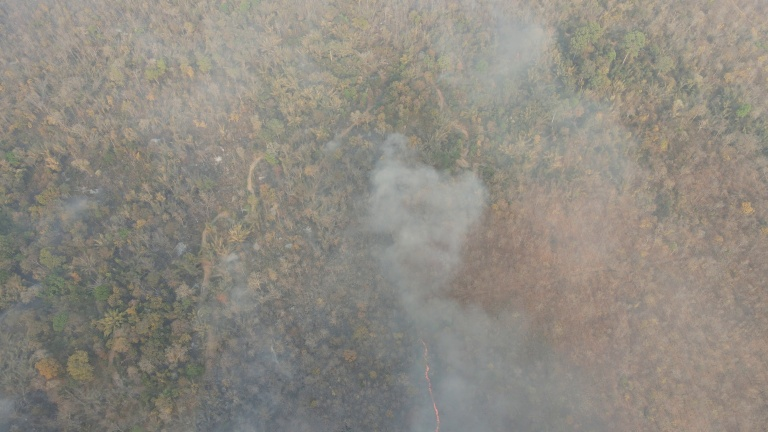fire: (415, 337, 445, 432)
smoke: (366, 155, 464, 314), (448, 315, 566, 432)
